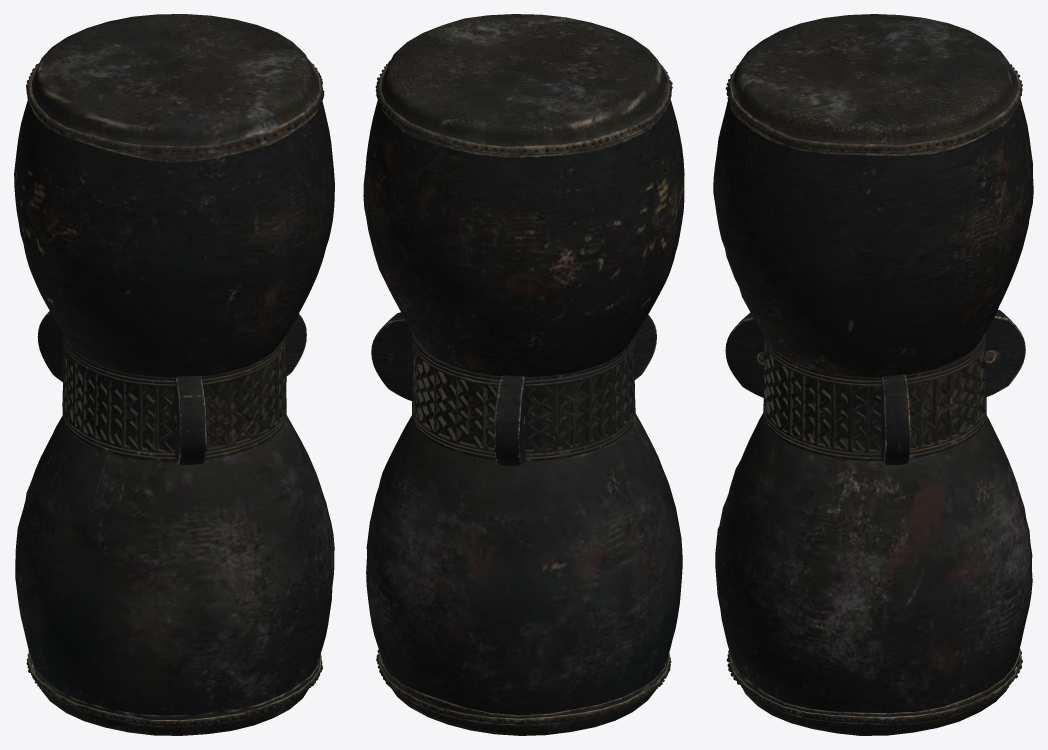
The model's file is drum.glb.
3 views of the same model, side by side, from view 1: azimuth 30°, elevation 25°; view 2: azimuth 150°, elevation 25°; view 3: azimuth 270°, elevation 25° (orthographic).
Parts seen in each view (by area): view 1: BODY, COVERS, MID_PATTERN, SIDERS, TOP_OBJ; view 2: BODY, COVERS, MID_PATTERN, SIDERS, TOP_OBJ; view 3: BODY, COVERS, MID_PATTERN, SIDERS, TOP_OBJ.
Boxes of the visible parts, x1,y1,x2,y2 form: BODY: (14,100,334,715); COVERS: (26,14,323,735); MID_PATTERN: (62,334,286,461); SIDERS: (37,311,306,464); TOP_OBJ: (26,64,324,725); BODY: (363,100,684,715); COVERS: (376,14,671,735); MID_PATTERN: (412,332,635,460); SIDERS: (371,312,656,466); TOP_OBJ: (375,60,672,724); BODY: (713,100,1033,712); COVERS: (727,14,1022,735); MID_PATTERN: (763,331,987,460); SIDERS: (725,309,1025,464); TOP_OBJ: (725,64,1022,723).
Bounding box in the file's own units: 3.45 × 7.33 × 3.45.
1 material, 1 textured.
